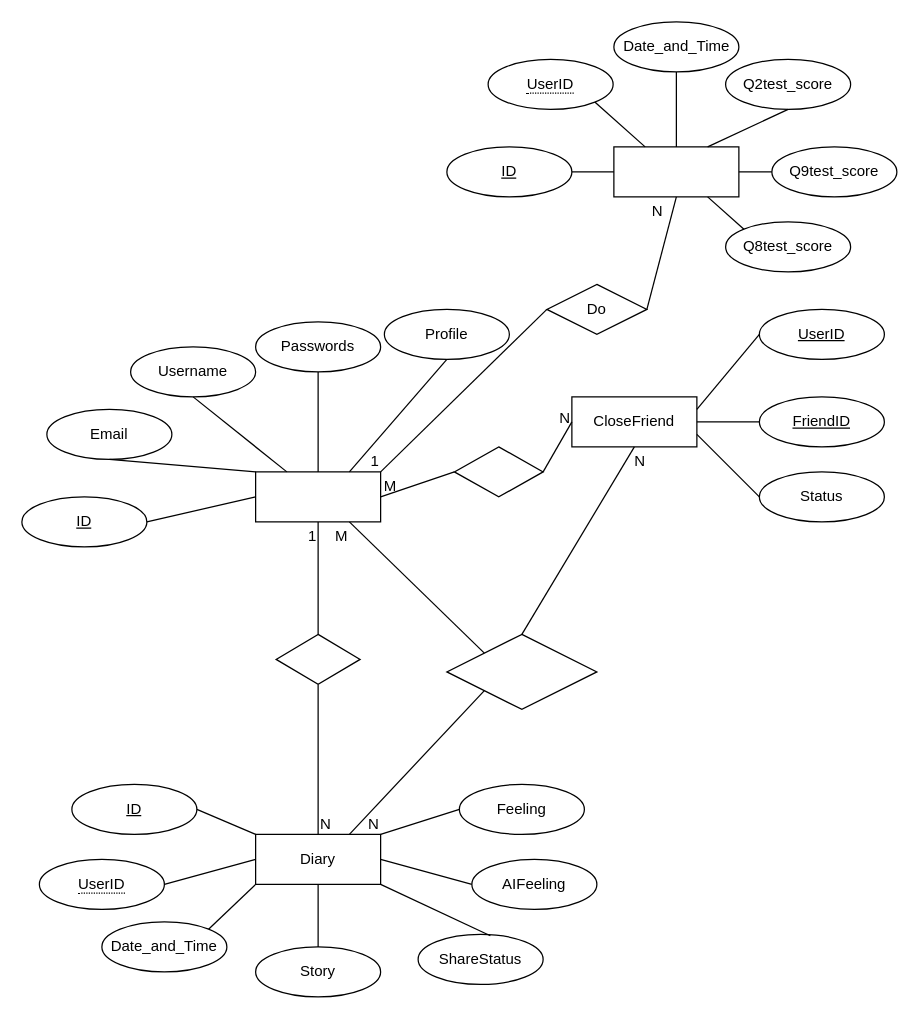
Some shapes in this 919 by 1019 pixel diagram are drawn without their labels. Each missing label, with the centre of its shape:
"Have" belongs at [498,471].
"questionnaire" belongs at [676,171].
"Share" belongs at [521,671].
"Users" belongs at [317,496].
"Write" belongs at [317,658].
